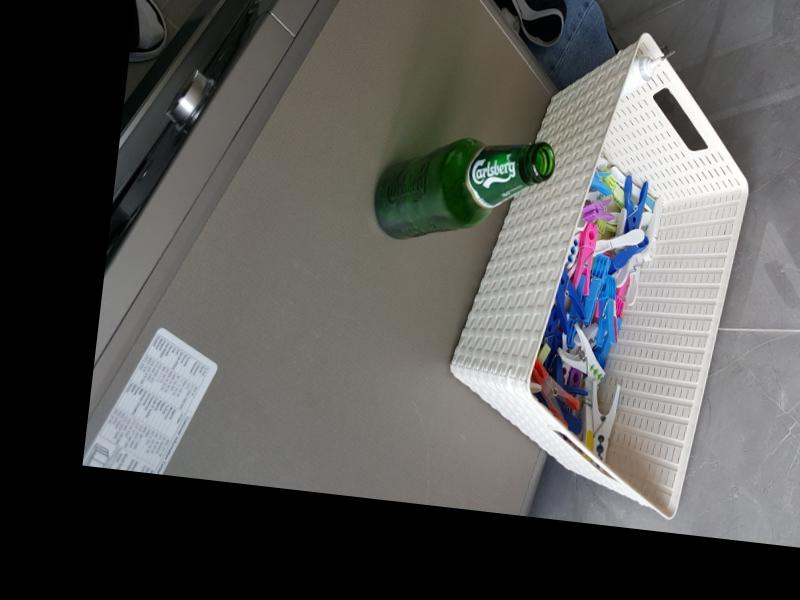Beer: (370, 125, 557, 256)
